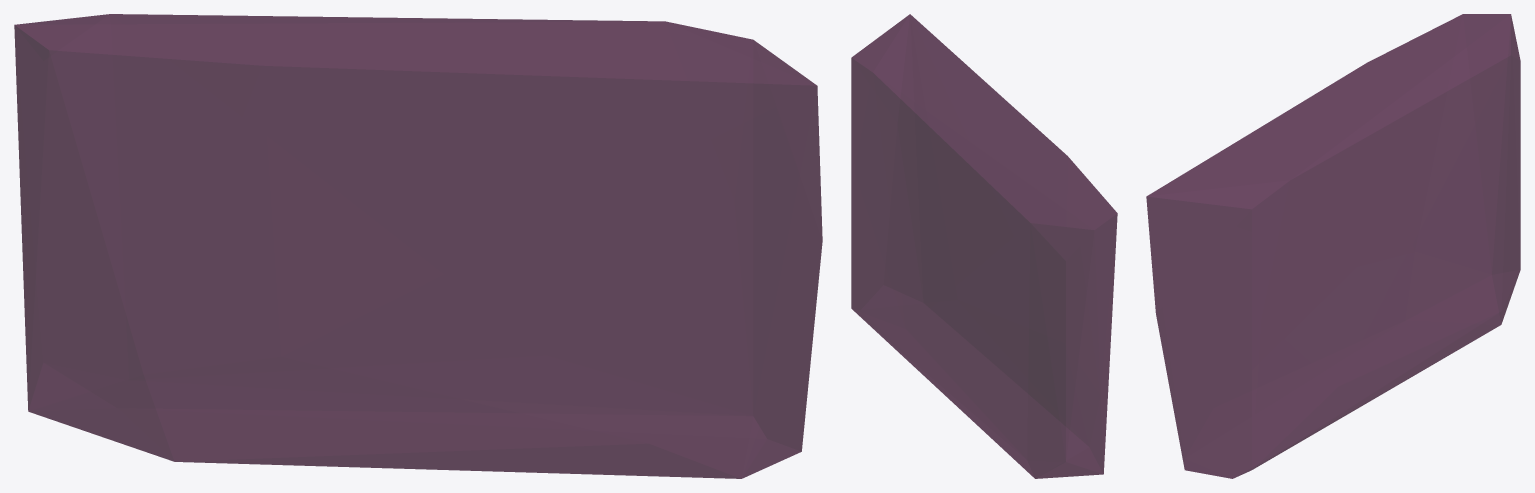
3 renders of one model, left to right at view 1: azimuth 30°, elevation 25°; view 2: azimuth 150°, elevation 25°; view 3: azimuth 270°, elevation 25°, orthographic. The views are drawn at different scales.
Parts seen in each view (by area): view 1: Shape_IndexedFaceSet.009_Shape_IndexedFaceSet.16411; view 2: Shape_IndexedFaceSet.009_Shape_IndexedFaceSet.16411; view 3: Shape_IndexedFaceSet.009_Shape_IndexedFaceSet.16411.
Part boxes in pixels (<box>): Shape_IndexedFaceSet.009_Shape_IndexedFaceSet.16411: <box>14,14,822,478</box>; Shape_IndexedFaceSet.009_Shape_IndexedFaceSet.16411: <box>851,14,1117,478</box>; Shape_IndexedFaceSet.009_Shape_IndexedFaceSet.16411: <box>1146,14,1520,478</box>.
Bounding box in the file's own units: 0.0106 × 0.00735 × 0.00896.
